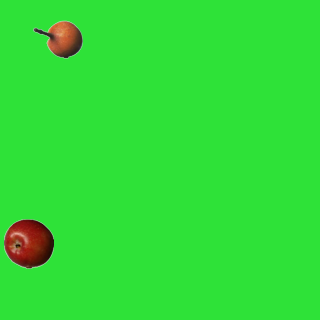Apple Braeburn: (3, 218, 53, 268)
Granadilla: (32, 14, 82, 64)
